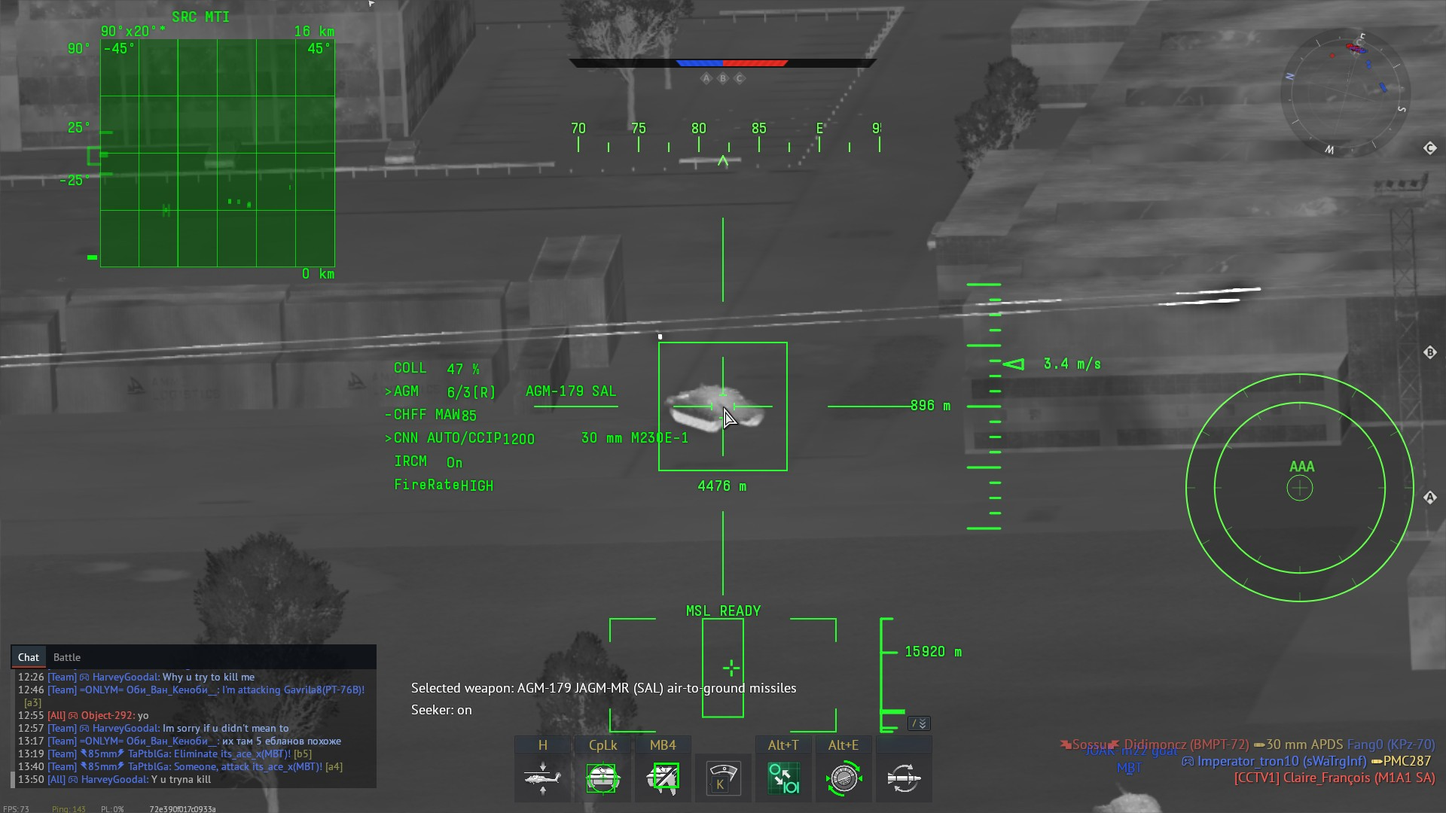t72b: (665, 384, 767, 433)
